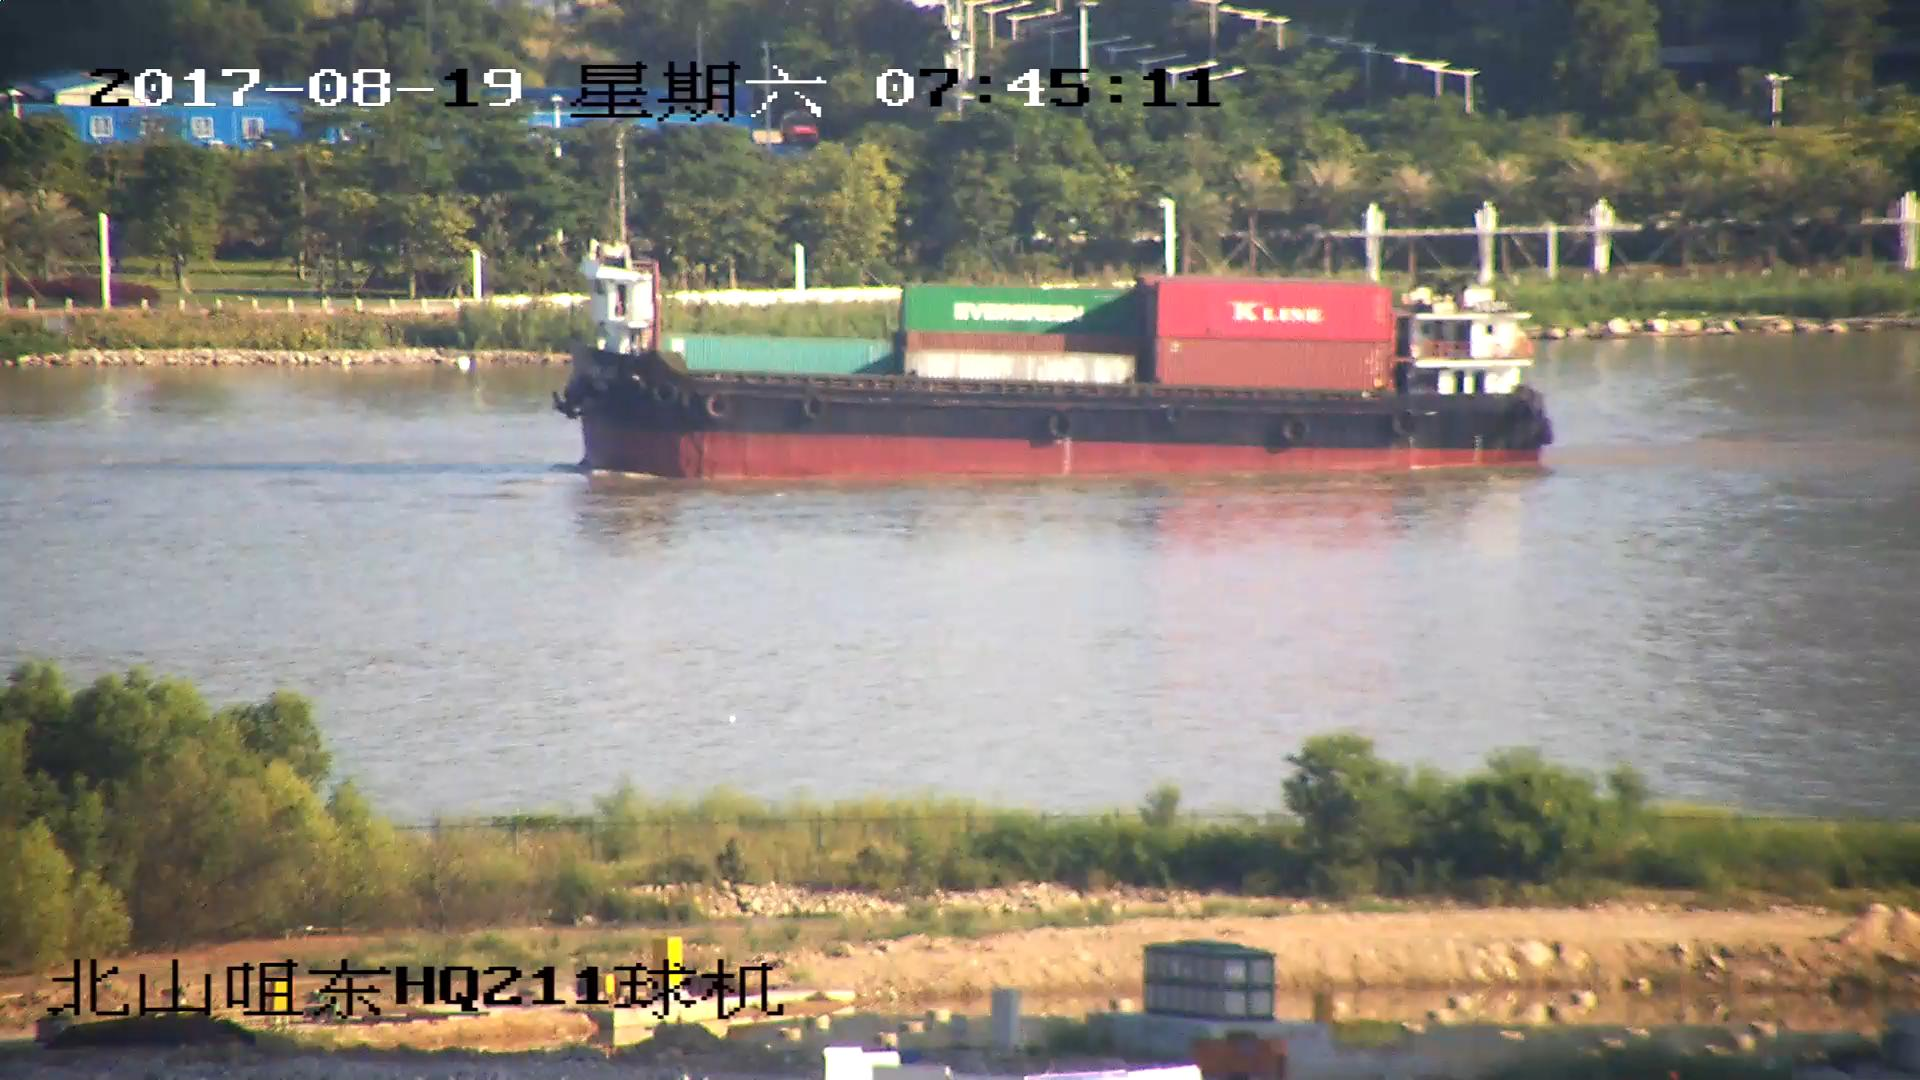container ship: (556, 145, 1556, 476)
